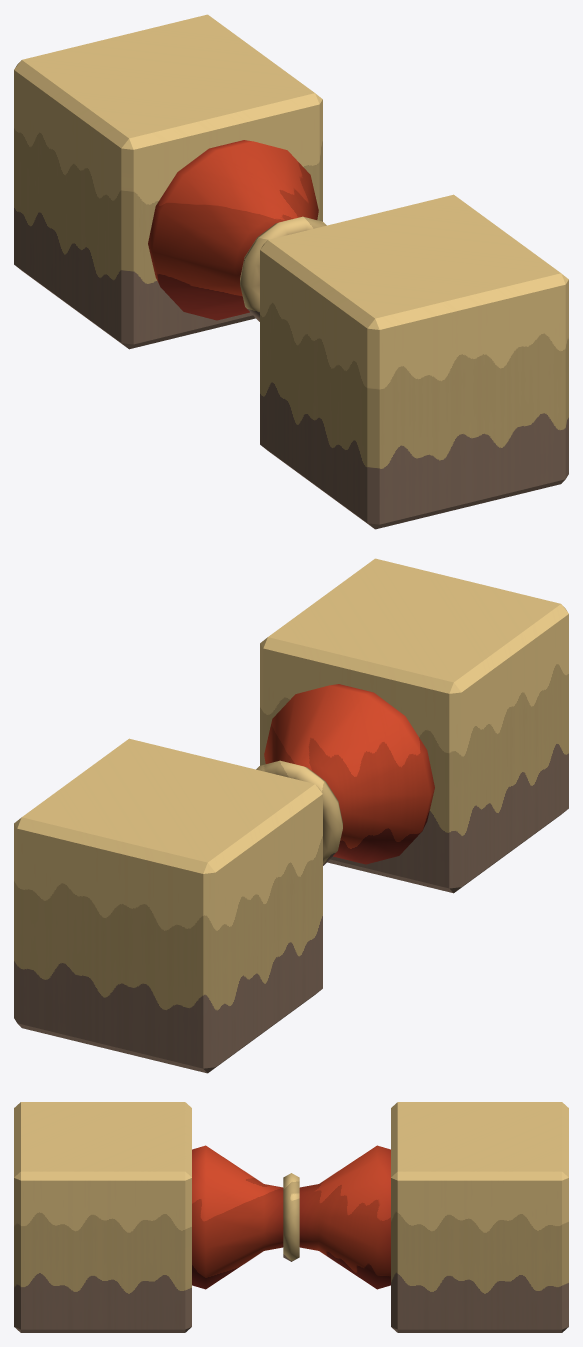
File: R4C_STRUT_STANDARD_LOD1.glb
3 renders of one model, top to bottom at view 1: azimuth 30°, elevation 25°; view 2: azimuth 150°, elevation 25°; view 3: azimuth 270°, elevation 25°, orthographic. The views are drawn at different scales.
Visible parts, largest first — view 1: R4C_STRUT_STANDARD_LOD1; view 2: R4C_STRUT_STANDARD_LOD1; view 3: R4C_STRUT_STANDARD_LOD1.
Part boxes in pixels (x1=…): R4C_STRUT_STANDARD_LOD1: x1=14, y1=14, x2=568, y2=529; R4C_STRUT_STANDARD_LOD1: x1=14, y1=558, x2=568, y2=1073; R4C_STRUT_STANDARD_LOD1: x1=14, y1=1102, x2=568, y2=1332.
Bounding box in the file's own units: 0.52 × 0.52 × 1.62.
Materials: 2 (2 with a texture image).
